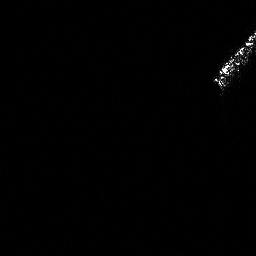ship: (209, 27, 256, 96)
